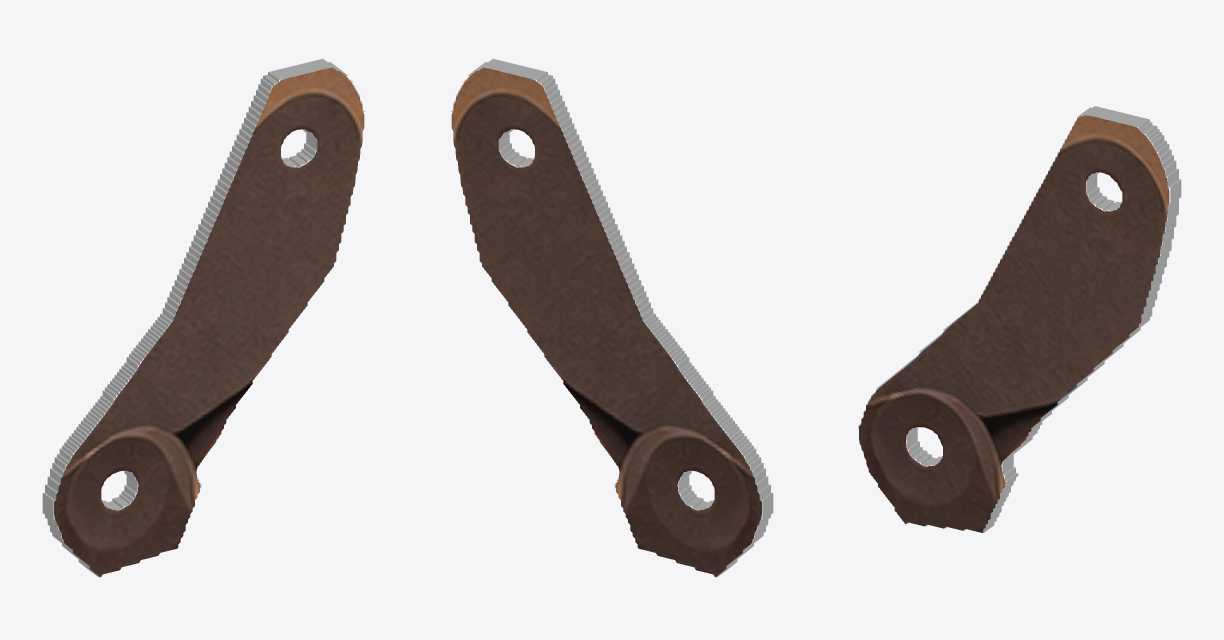
File: Variant02Upper.glb
3 renders of one model, left to right at view 1: azimuth 30°, elevation 25°; view 2: azimuth 150°, elevation 25°; view 3: azimuth 330°, elevation 25°, orthographic.
Visible parts, largest first — view 1: PaperVolume; view 2: PaperVolume; view 3: PaperVolume.
Part boxes in pixels (<box>): PaperVolume: <box>42,58,364,577</box>; PaperVolume: <box>451,58,773,577</box>; PaperVolume: <box>858,106,1181,532</box>.
Bounding box in the file's own units: 1.54 × 2.05 × 0.08.
Materials: 3 (2 with a texture image).
